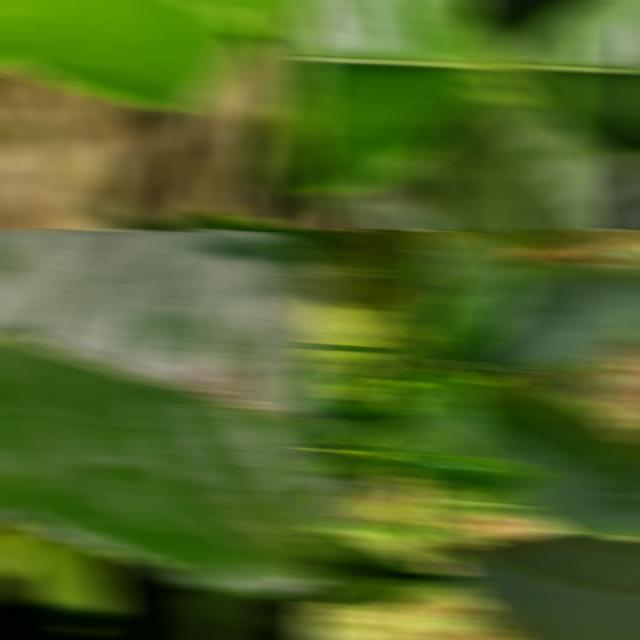Leaf: (0, 230, 322, 600), (304, 0, 501, 194), (0, 0, 258, 110), (456, 383, 640, 537), (450, 93, 633, 230), (498, 0, 640, 160), (440, 532, 640, 640), (452, 263, 640, 372), (304, 530, 465, 612), (96, 568, 243, 640), (11, 535, 124, 626), (423, 267, 528, 362), (375, 442, 548, 499), (438, 108, 509, 230), (393, 368, 487, 460), (434, 230, 540, 301), (304, 458, 402, 530), (216, 581, 322, 640), (472, 0, 573, 60), (285, 26, 322, 177), (304, 289, 381, 346), (304, 393, 385, 447), (335, 177, 415, 230), (246, 230, 322, 269), (364, 252, 438, 292), (163, 211, 298, 230), (505, 369, 574, 397), (505, 230, 589, 250), (454, 230, 514, 249)
